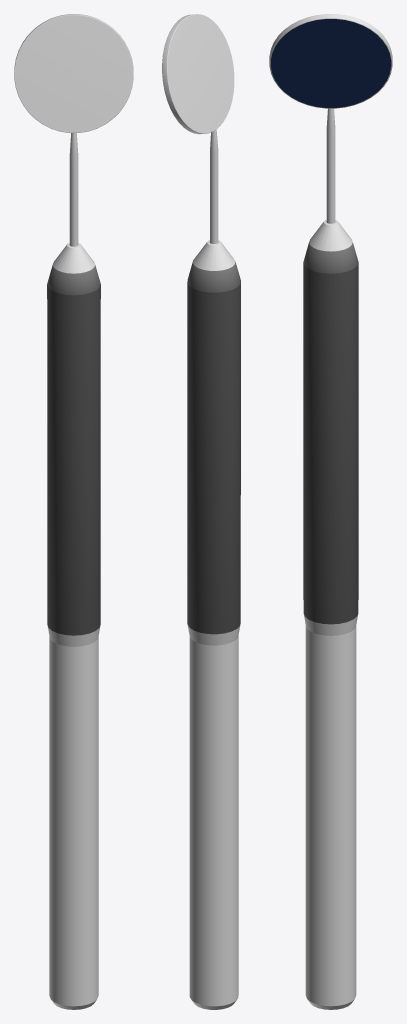
The model's file is Mirror.fbx.
3 renders of one model, left to right at view 1: azimuth 90°, elevation 25°; view 2: azimuth 150°, elevation 25°; view 3: azimuth 270°, elevation 25°, orthographic. The views are drawn at different scales.
Parts seen in each view (by area): view 1: polySurface28; view 2: polySurface28; view 3: polySurface28.
Boxes of the visible parts, x1,y1,x2,y2 form: polySurface28: (14, 14, 133, 1009); polySurface28: (162, 14, 240, 1009); polySurface28: (269, 14, 392, 1009).
Size of the model in its own units: 0.7988 by 12.99 by 1.45.
